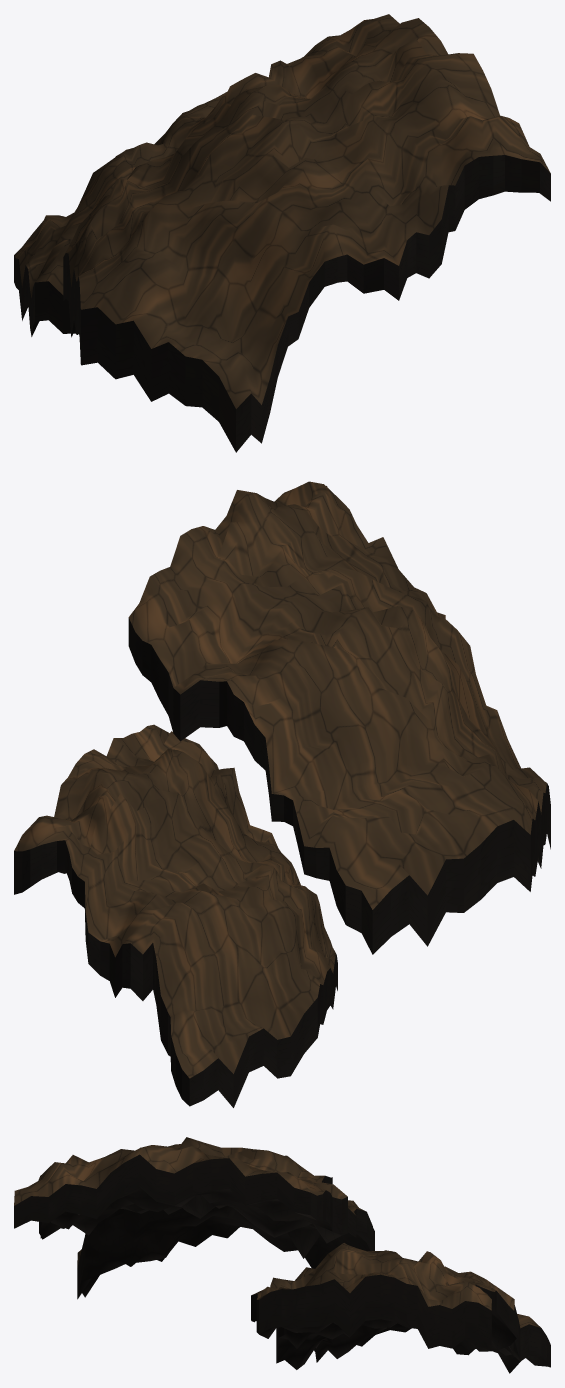
The model's file is SM_MineBorer_RearRight.glb.
The picture shows the model from 3 angles, top to bottom: view 1: azimuth 30°, elevation 25°; view 2: azimuth 150°, elevation 25°; view 3: azimuth 270°, elevation 25°; orthographic projection. The views are drawn at different scales.
Visible parts, largest first — view 1: SM_MineBorer_RearRight; view 2: SM_MineBorer_RearRight; view 3: SM_MineBorer_RearRight.
Part boxes in pixels (<box>): SM_MineBorer_RearRight: <box>14,14,550,452</box>; SM_MineBorer_RearRight: <box>14,481,550,1107</box>; SM_MineBorer_RearRight: <box>14,1137,550,1373</box>.
Size of the model in its own units: 0.76 by 0.8163 by 1.28.
Materials: 2 (2 with a texture image).
